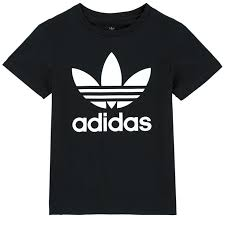adidas: (71, 52, 153, 131)
